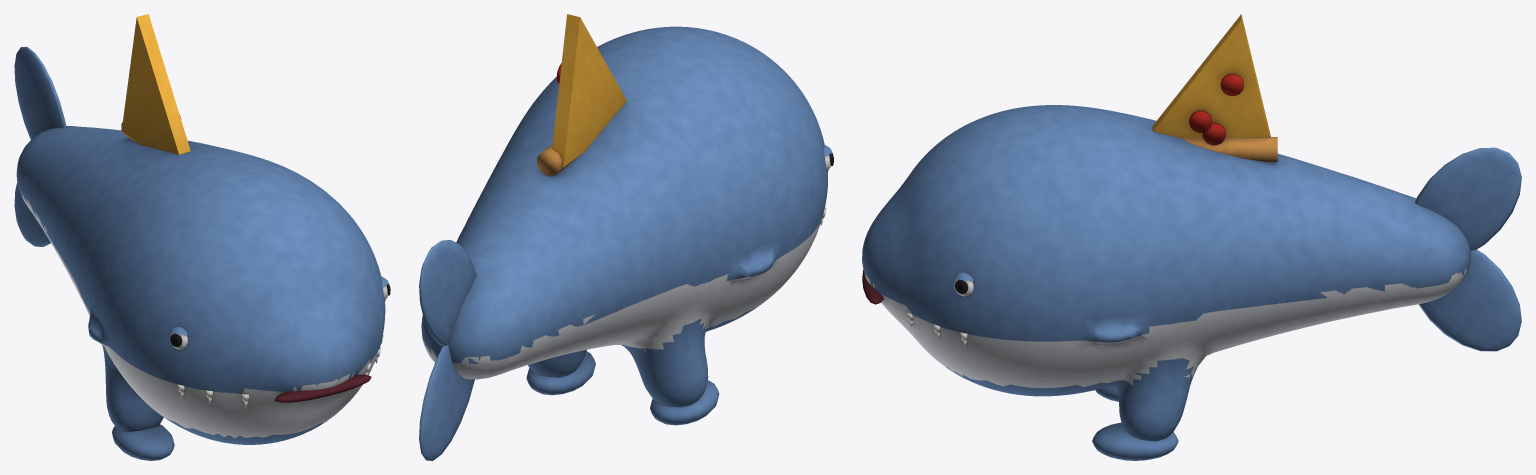
File: PizzaShark.fbx
The picture shows the model from 3 angles, left to right: view 1: azimuth 30°, elevation 25°; view 2: azimuth 150°, elevation 25°; view 3: azimuth 270°, elevation 25°; orthographic projection. The views are drawn at different scales.
Parts seen in each view (by area): view 1: PizzaShark; view 2: PizzaShark; view 3: PizzaShark.
Boxes of the visible parts, x1=… form: PizzaShark: x1=14, y1=14, x2=390, y2=460; PizzaShark: x1=419, y1=14, x2=833, y2=460; PizzaShark: x1=862, y1=14, x2=1521, y2=460.
Size of the model in its own units: 322 by 499 by 731.
Materials: 1 (1 with a texture image).
